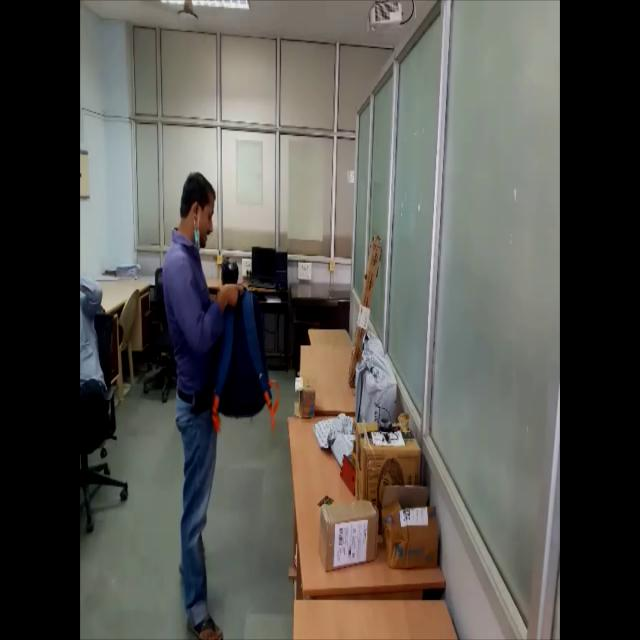shoplifting: (153, 162, 272, 632)
